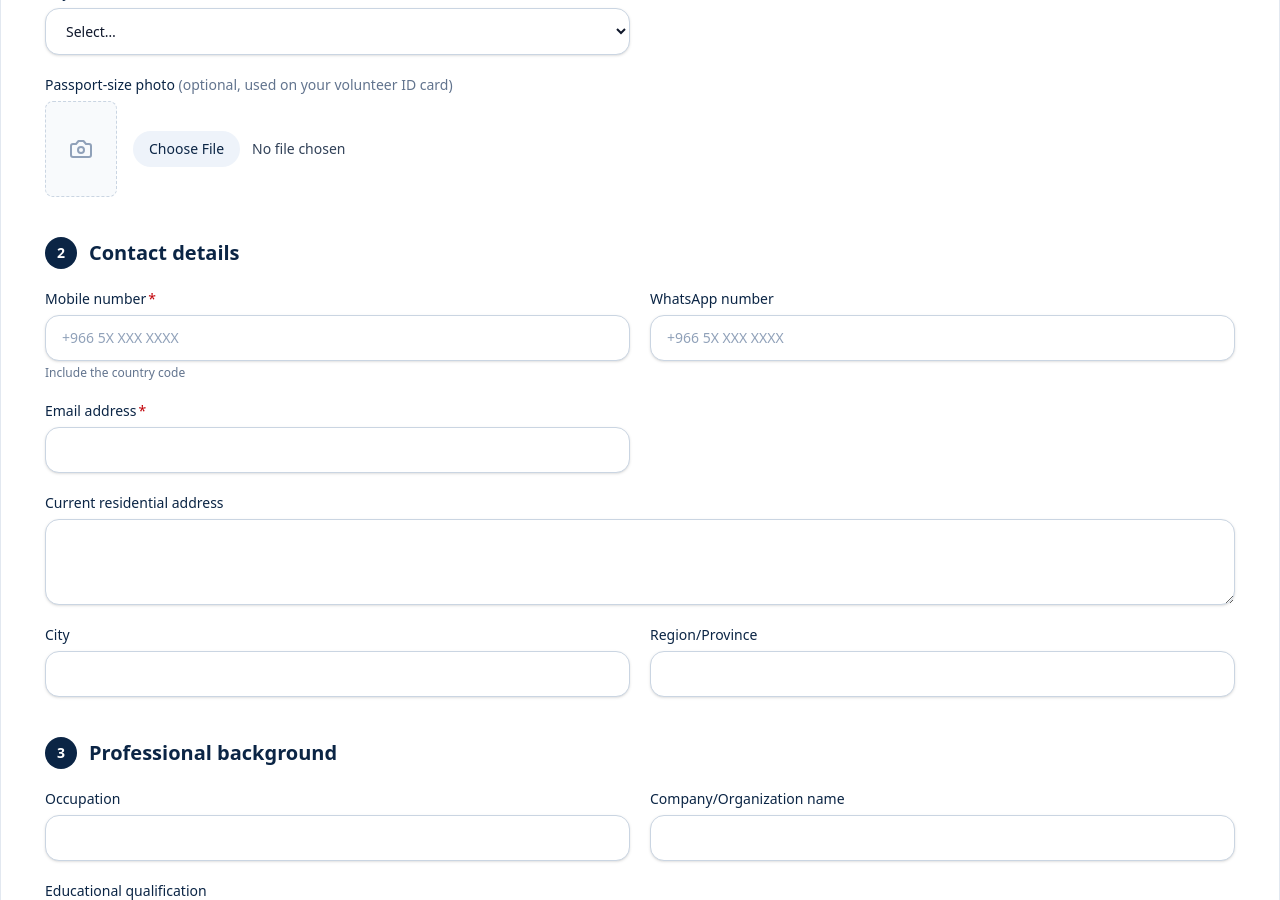
Test: VolunteerForm › validates email and phone formats inline
(page scrolled)
In the field labelled "Email address*": (338, 450) left=45, top=427, right=630, bottom=473, type "not-an-email"
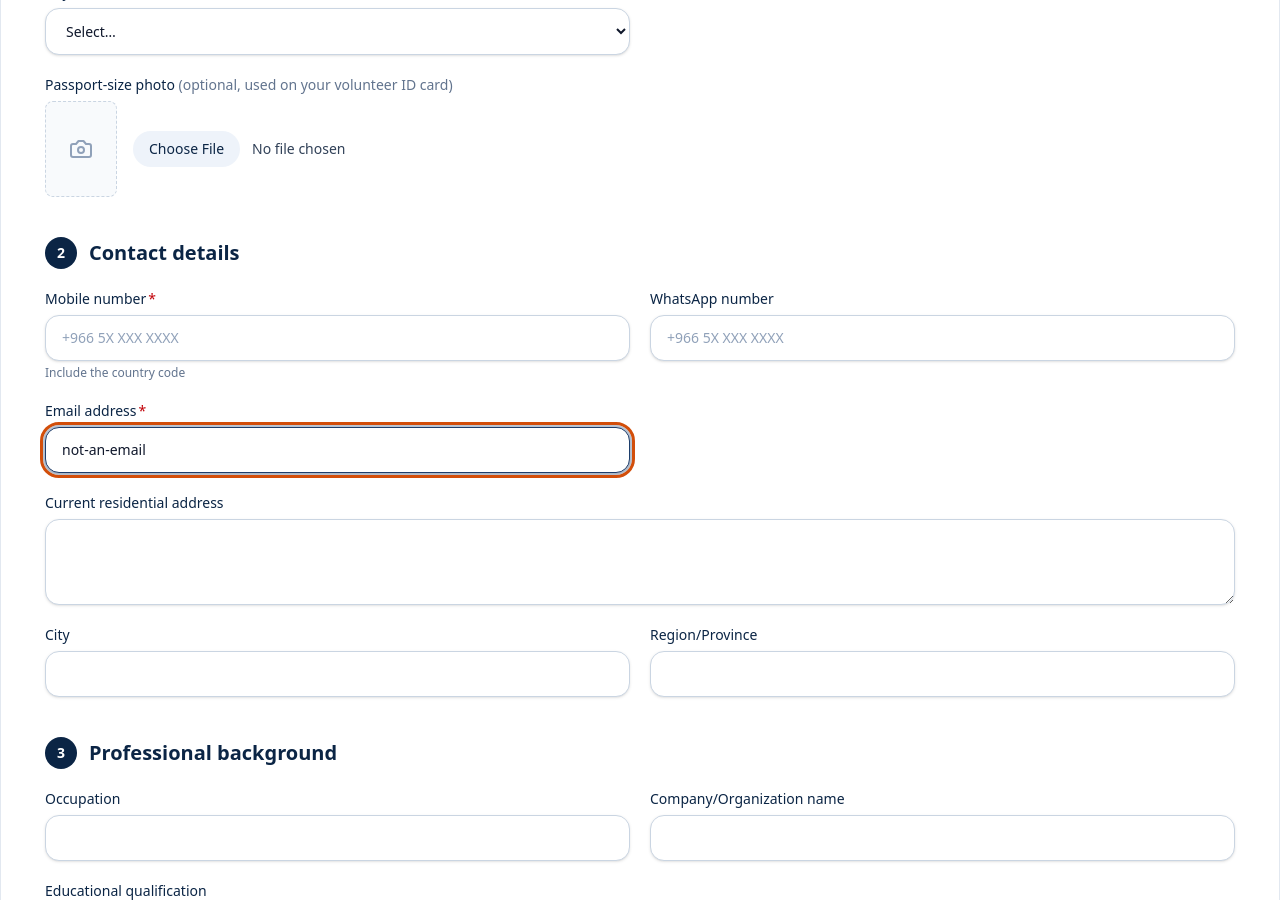
In the field labelled "Mobile number*": (338, 338) left=45, top=315, right=630, bottom=361, type "abc"
(page scrolled)
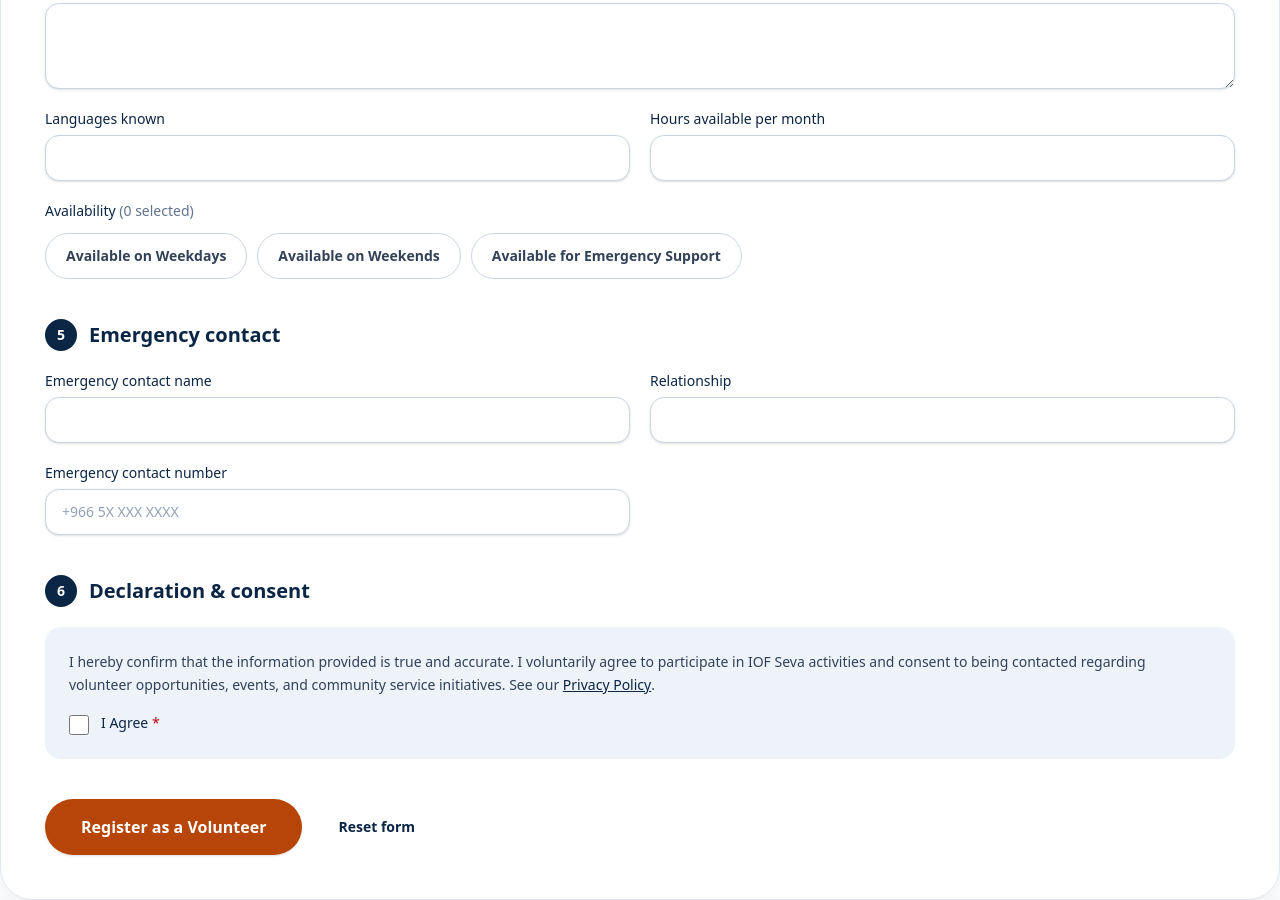
Click the button "Register as a Volunteer": (174, 826) left=45, top=798, right=302, bottom=854
(page scrolled)
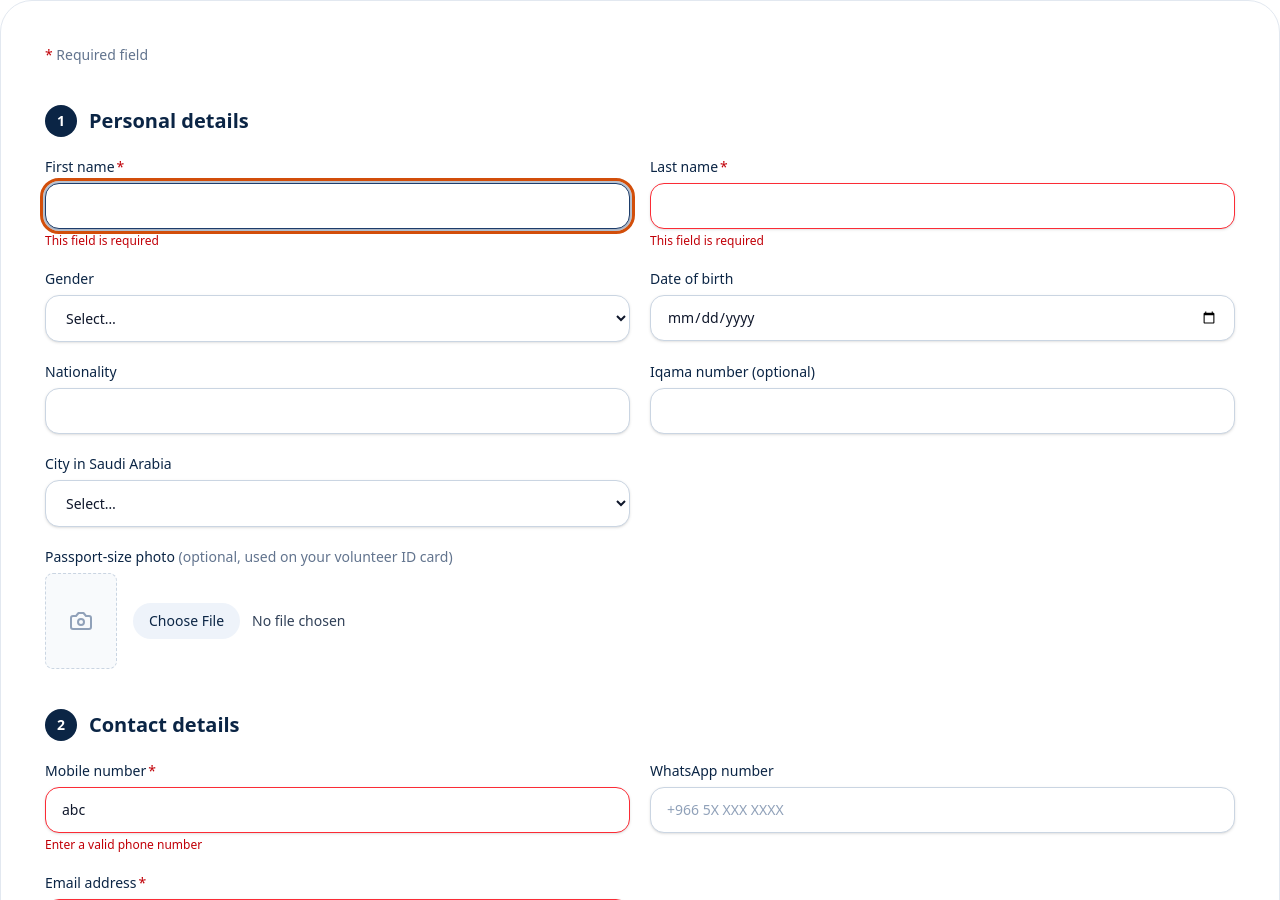
Expected: the text "Enter a valid phone number" is shown, left=45, top=836, right=202, bottom=853
